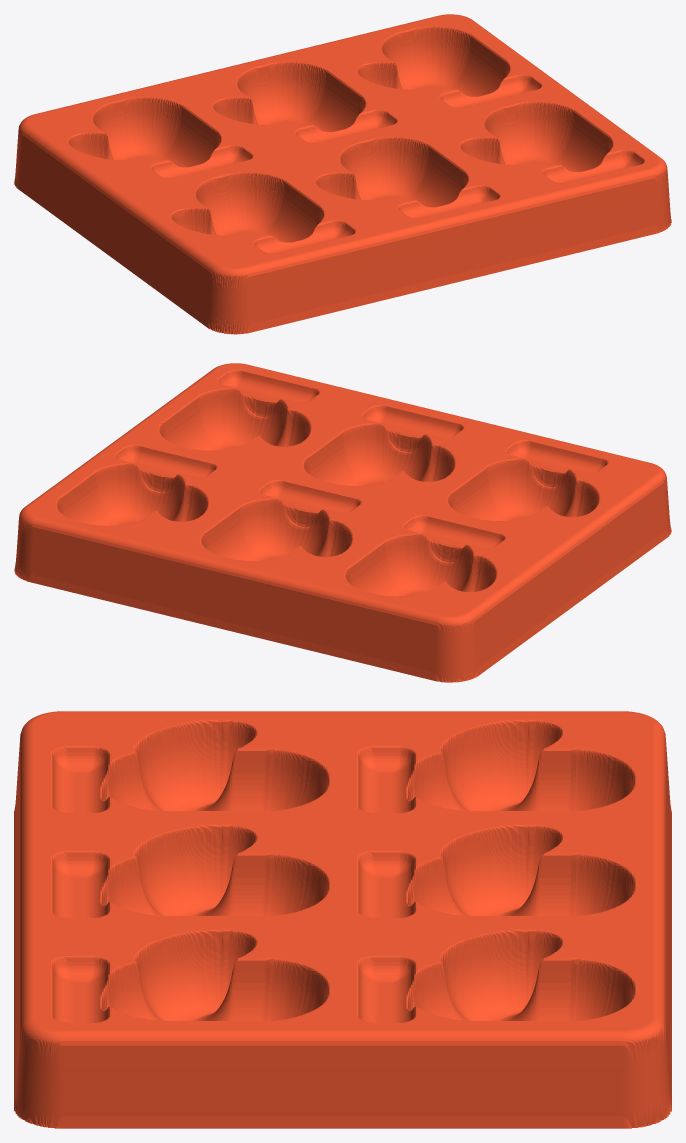
Rendered from mold.glb.
3 renders of one model, top to bottom at view 1: azimuth 30°, elevation 25°; view 2: azimuth 150°, elevation 25°; view 3: azimuth 270°, elevation 25°, orthographic. The views are drawn at different scales.
Visible parts, largest first — view 1: geometry_0; view 2: geometry_0; view 3: geometry_0.
Boxes of the visible parts, x1,y1,x2,y2 form: geometry_0: (14, 14, 671, 334); geometry_0: (14, 363, 671, 682); geometry_0: (14, 711, 671, 1128).
Size of the model in its own units: 0.1469 by 0.0185 by 0.1222.
